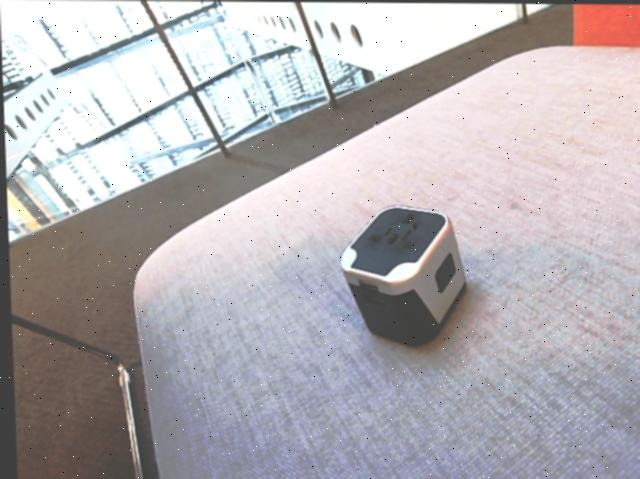adapter: (336, 203, 465, 346)
